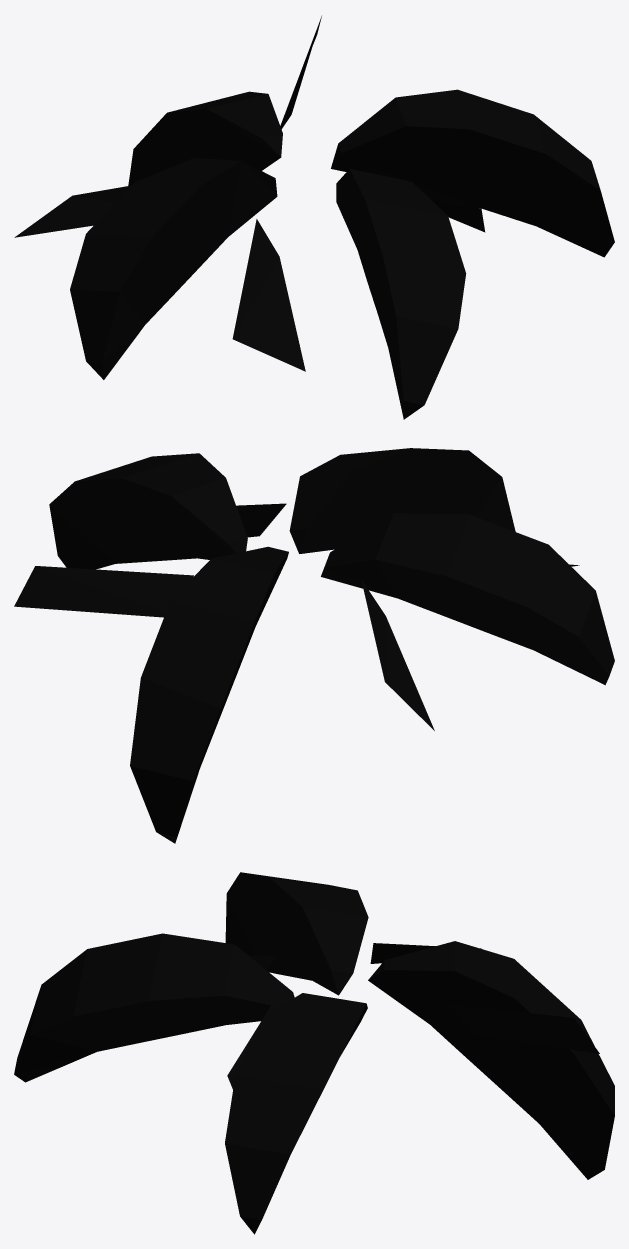
Rendered from impact_07.glb.
3 views of the same model, one above another, from view 1: azimuth 30°, elevation 25°; view 2: azimuth 150°, elevation 25°; view 3: azimuth 270°, elevation 25° (orthographic). The views are drawn at different scales.
Size of the model in its own units: 3.13 by 1.34 by 3.05.
1 material, 1 textured.
